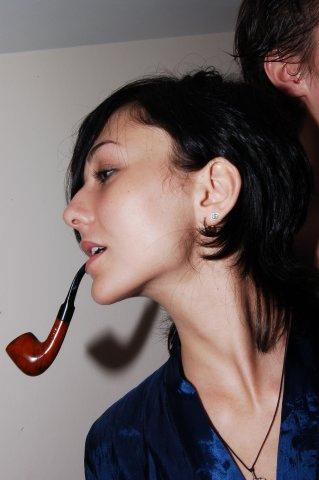trubka: (5, 265, 87, 375)
